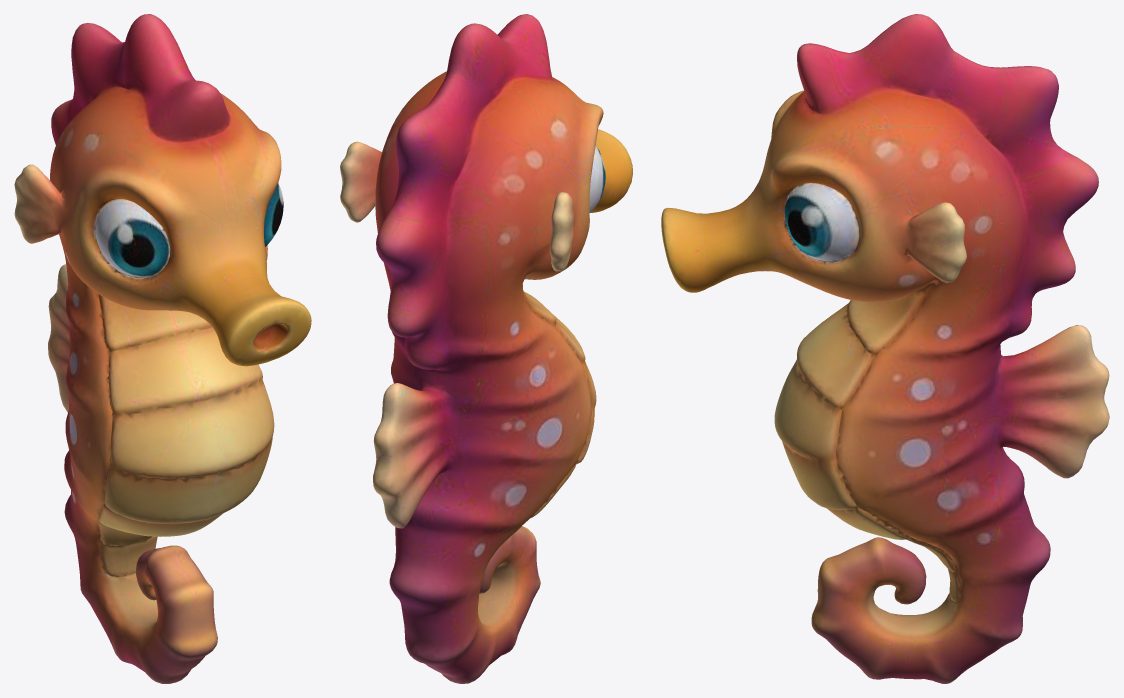
3 views of the same model, side by side, from view 1: azimuth 30°, elevation 25°; view 2: azimuth 150°, elevation 25°; view 3: azimuth 270°, elevation 25° (orthographic). The views are drawn at different scales.
Size of the model in its own units: 0.6971 by 1.9 by 1.16.
Materials: 1 (1 with a texture image).
